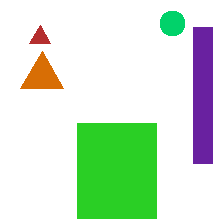circle: (160, 11, 184, 35)
rectangle: (77, 123, 156, 218), (193, 27, 212, 163)
triangle: (20, 51, 63, 88), (29, 25, 50, 43)
